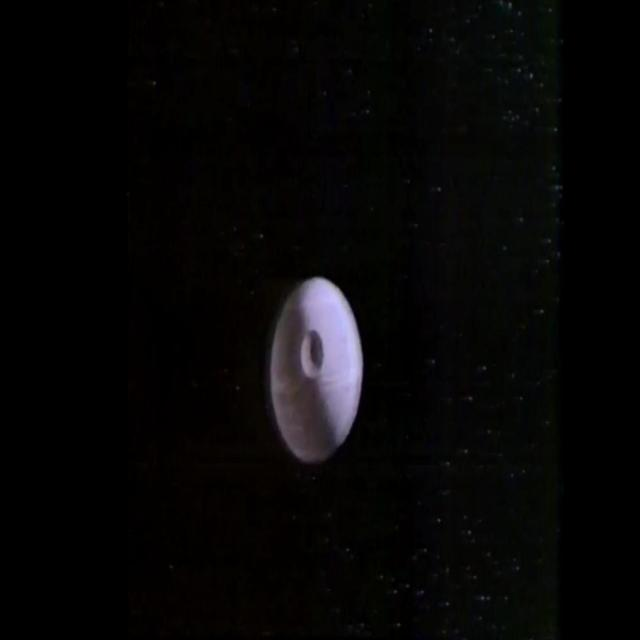deathstar: (270, 278, 362, 462)
